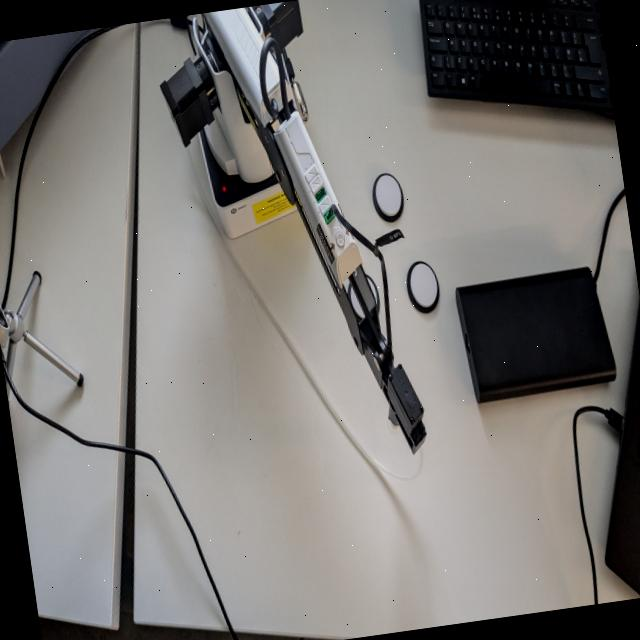Robot-end-effector-HF8z: (374, 358, 434, 460)
